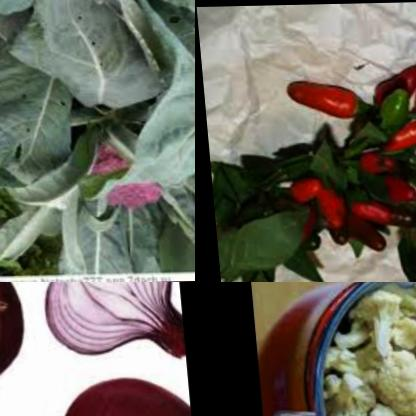cayliflower: (312, 282, 416, 416), (68, 137, 177, 221)
hot pepper: (279, 77, 365, 124), (318, 206, 380, 259), (360, 154, 414, 208), (362, 65, 416, 112), (374, 113, 416, 161), (311, 185, 349, 234), (284, 164, 325, 208), (342, 197, 393, 230), (400, 44, 416, 119)
onion: (25, 282, 180, 364), (40, 376, 192, 416)
